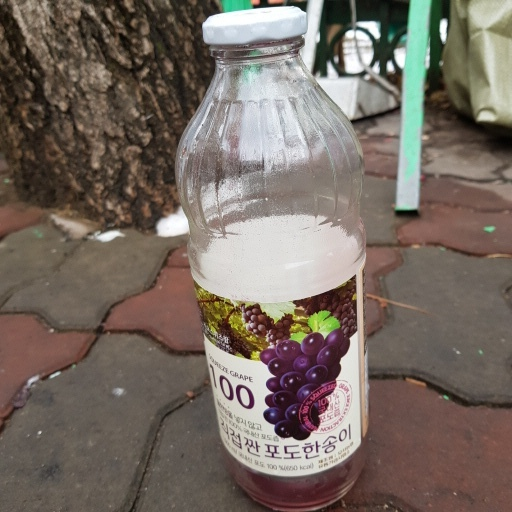Glass_4: (169, 7, 377, 510)
